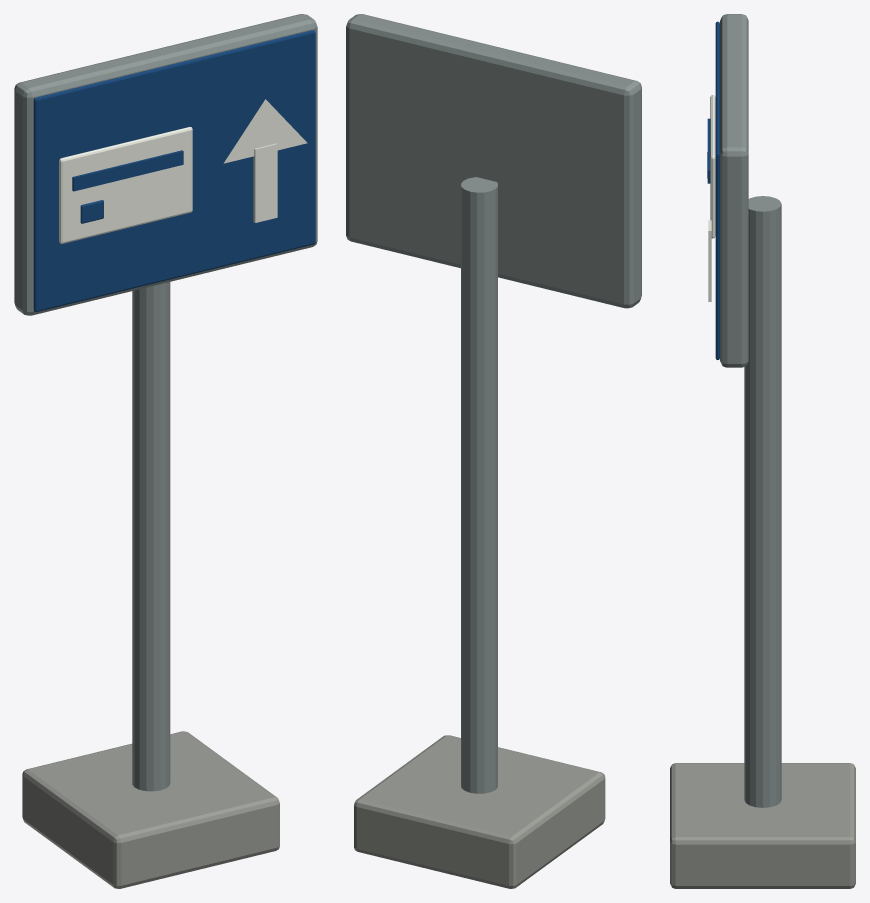
The model's file is malaysia-card-lane-sign.glb.
3 views of the same model, side by side, from view 1: azimuth 30°, elevation 25°; view 2: azimuth 150°, elevation 25°; view 3: azimuth 270°, elevation 25° (orthographic). The views are drawn at different scales.
Parts seen in each view (by area): view 1: PANEL_BlueFace, BASE_Footing, POST_Support, PANEL_Back, ICON_Card, ICON_Arrow_Head, ICON_Arrow_Shaft, ICON_CardStripe; view 2: PANEL_Back, BASE_Footing, POST_Support; view 3: POST_Support, BASE_Footing, PANEL_Back, PANEL_BlueFace, ICON_Card.
Part boxes in pixels (<box>): PANEL_BlueFace: <box>33,30,315,311</box>; BASE_Footing: <box>22,731,279,888</box>; POST_Support: <box>132,282,170,791</box>; PANEL_Back: <box>14,14,317,315</box>; ICON_Card: <box>59,127,192,243</box>; ICON_Arrow_Head: <box>223,99,307,163</box>; ICON_Arrow_Shaft: <box>253,143,277,222</box>; ICON_CardStripe: <box>72,150,183,191</box>; PANEL_Back: <box>346,14,641,308</box>; BASE_Footing: <box>354,735,605,888</box>; POST_Support: <box>461,177,497,793</box>; POST_Support: <box>744,196,781,807</box>; BASE_Footing: <box>670,763,855,888</box>; PANEL_Back: <box>720,14,748,367</box>; PANEL_BlueFace: <box>715,21,719,359</box>; ICON_Card: <box>710,95,715,238</box>.
Bounding box in the file's own units: 1.15 × 2.97 × 0.65.
